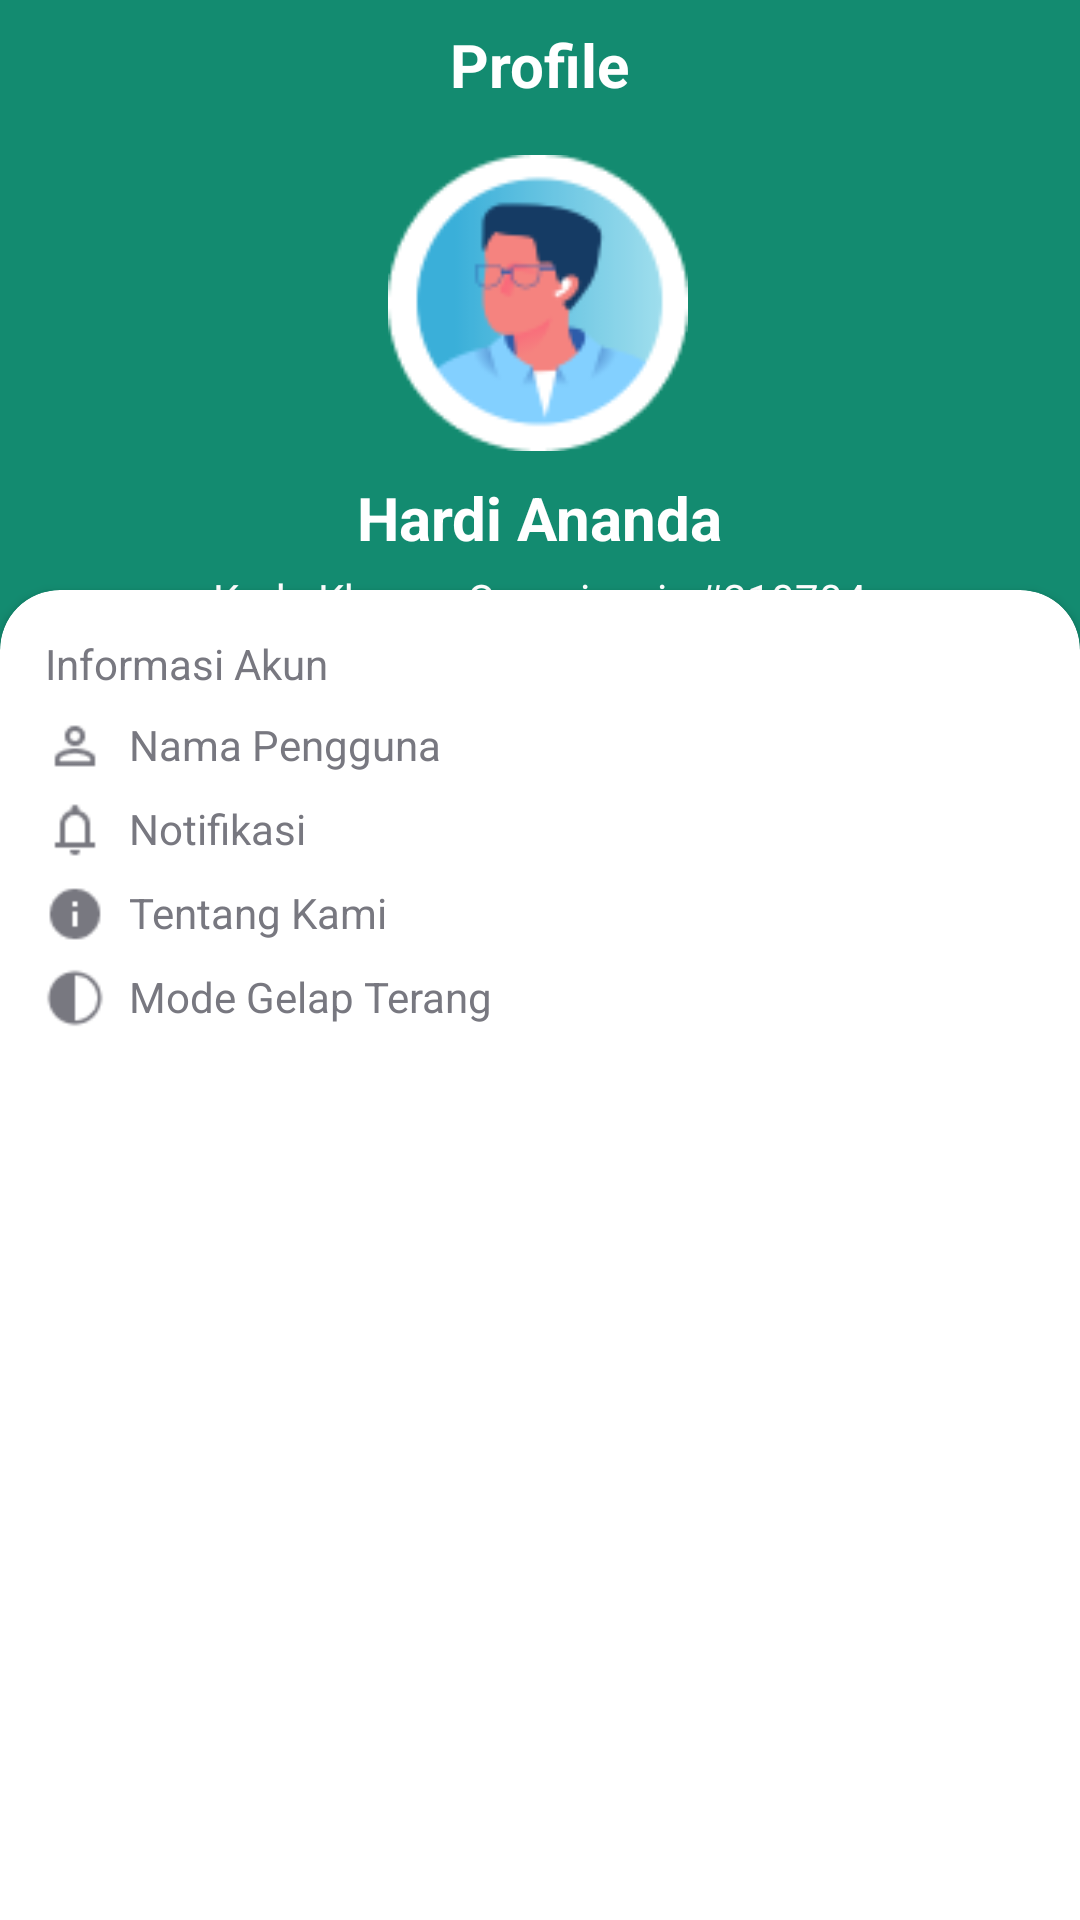

Screen size 1080x1920. Icon name, then its box in pixels as (x1, y1, x2, y2):
about: (49, 888, 101, 940)
